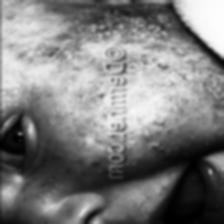Non-Cancerous Skin Condition: (133, 54, 224, 128), (79, 4, 178, 46), (140, 136, 212, 162), (64, 82, 106, 126), (26, 43, 80, 67)
